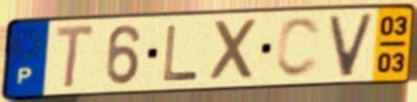6: (105, 23, 144, 88)
C: (273, 15, 325, 81)
L: (161, 23, 201, 83)
T: (53, 22, 98, 93)
V: (326, 10, 377, 79)
X: (209, 16, 263, 85)
